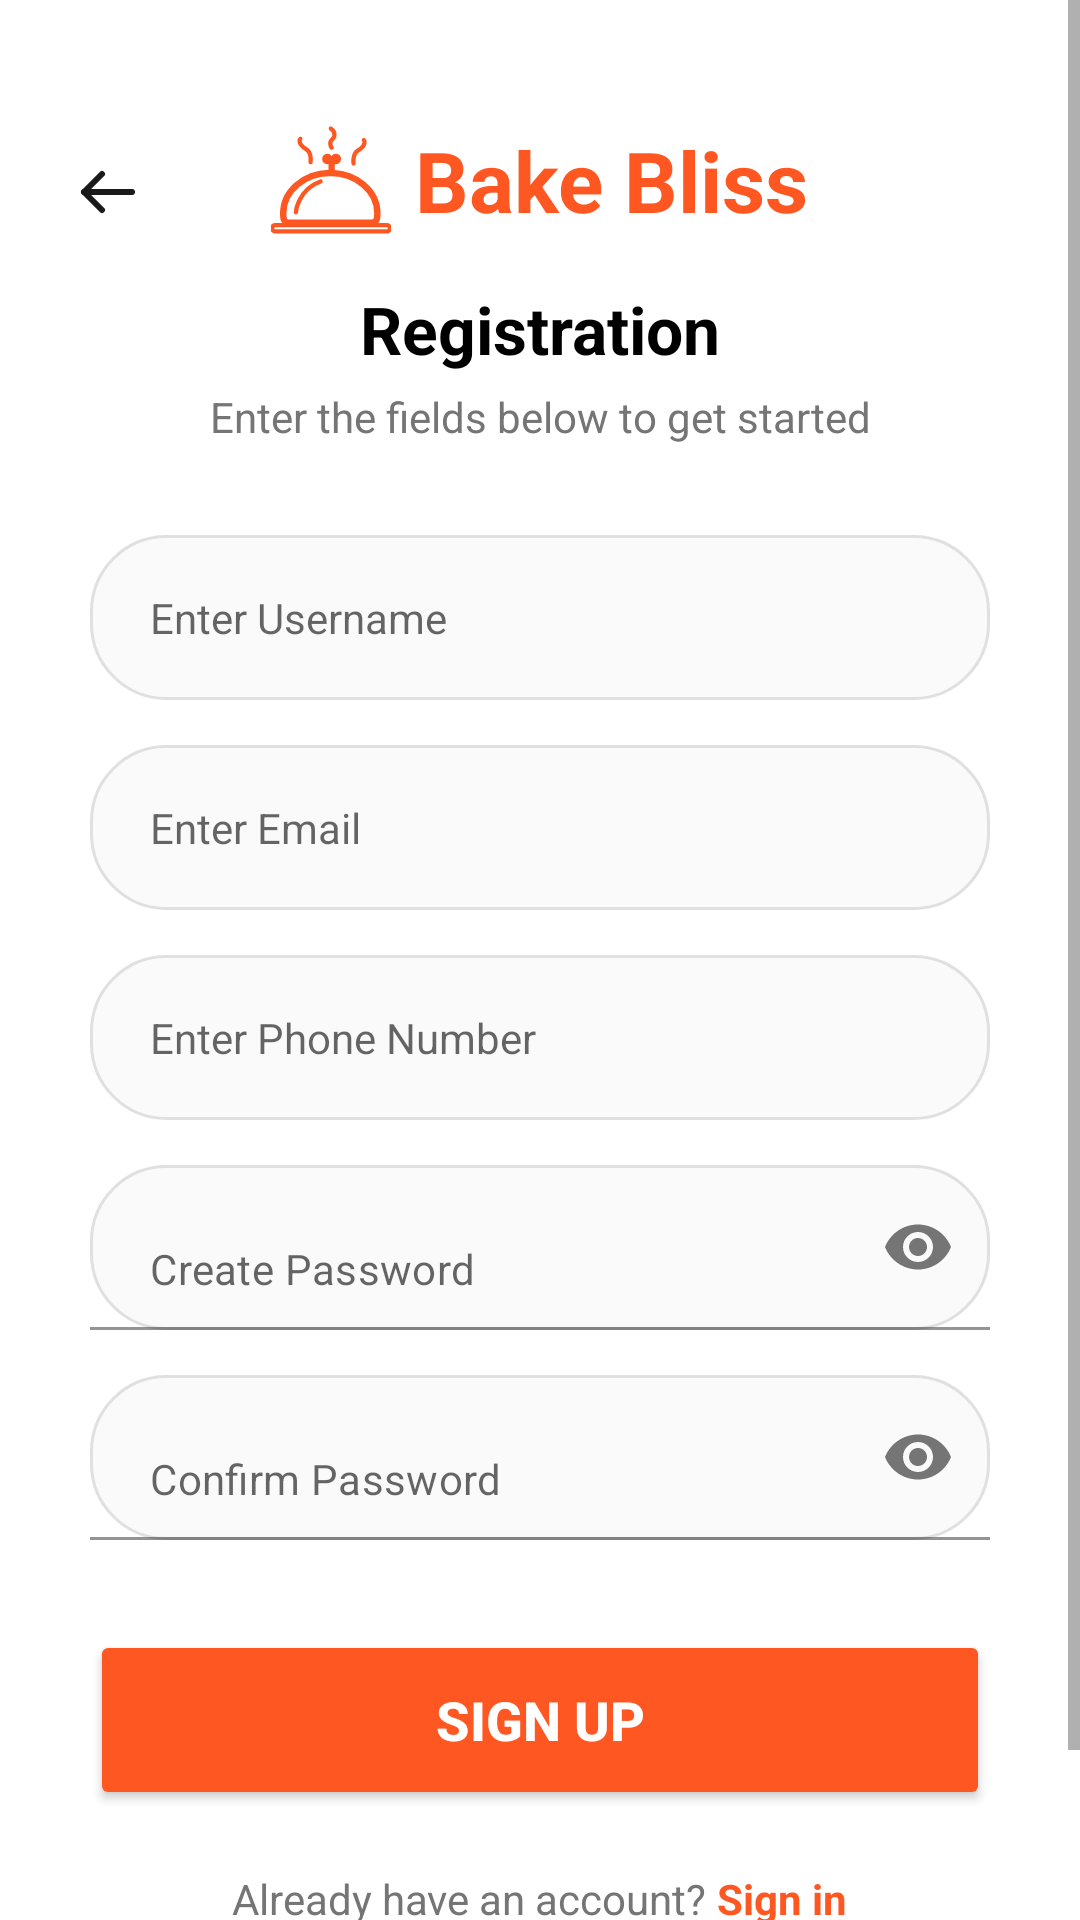

Icon bounding boxes for this 1080px×1920px phone screenshot, format detection(x1, y1, x2, y2):
Back: detection(81, 171, 135, 213)
